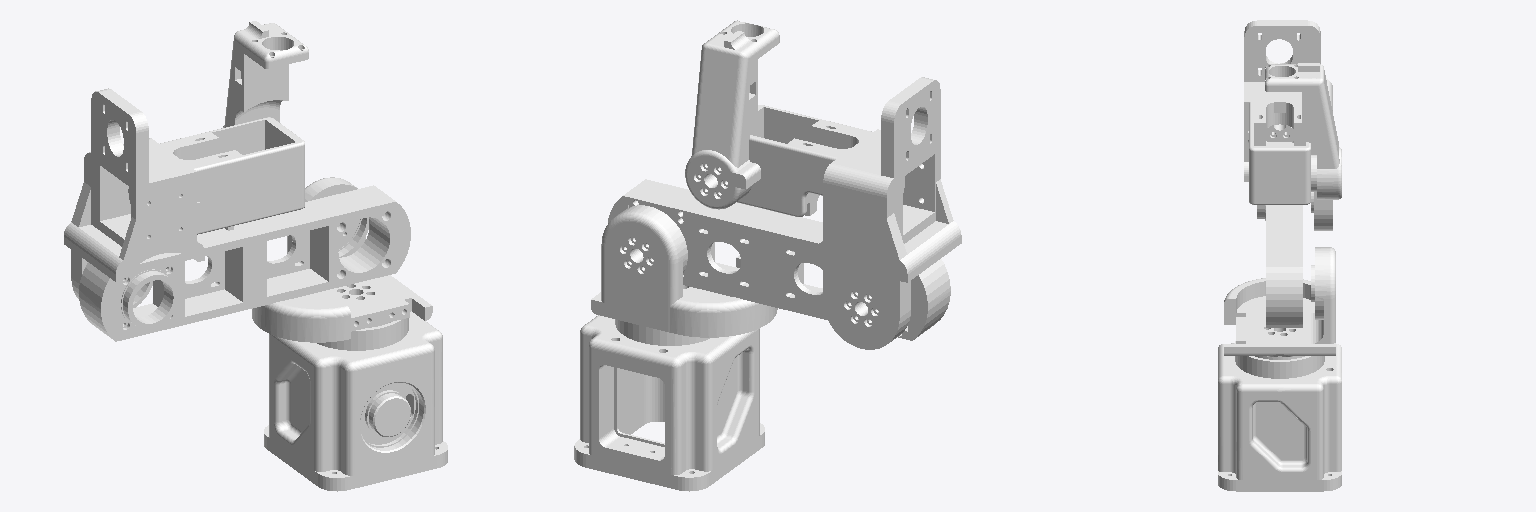
robot.urdf — my:
<?xml version="1.0"?>
<robot name="my">
  <link name="base_link">
    <visual>
      <geometry>
        <mesh filename="package://my_robot/meshes/base.STL" scale="0.01 0.01 0.01"/>
      </geometry>
    <material name="custom_color">
      <color rgba="1.0 1.0 1.0 1.0"/>  <!-- white-->
    </material>
    </visual>
  </link>

  <link name="link0">
    <visual>
      <geometry>
        <mesh filename="package://my_robot/meshes/joint1.STL" scale="0.01 0.01 0.01"/>
      </geometry>
      <origin xyz="0.0 0.0 1.6" rpy='0 0 3.1415'/>
    <material name="custom_color">
      <color rgba="1.0 1.0 1.0 1.0"/>  <!-- white-->
    </material>
    </visual>
  </link>
  <joint name="base_to_link0" type="continuous">
    <parent link="base_link"/>
    <child link="link0"/>
    <axis xyz="0 0 1"/>
    <origin xyz="0.0 0.0 0.0" rpy='0 0 0'/>
  </joint>
  <link name="link1">
    <visual>
      <geometry>
        <mesh filename="package://my_robot/meshes/joint2.STL" scale="0.01 0.01 0.01"/>
      </geometry>
      <origin xyz="0.0 0.0 0.0" rpy='0 3.1415 1.5707'/>
    <material name="custom_color">
      <color rgba="1.0 1.0 1.0 1.0"/>  <!-- white-->
    </material>
    </visual>
      <!--
    <visual>
      <geometry>
        <box size="0.02 0.02 0.02"/>
      </geometry>
      <origin rpy="1.5707 0 0" xyz="0 0 0.11"/>
    </visual>
      -->
  </link>
  <joint name="link0_to_link1" type="continuous">
    <parent link="link0"/>
    <child link="link1"/>
    <axis xyz="0 0 1"/>
    <origin xyz="0.0 0.0 1.6" rpy='-1.5707 3.1415 0'/>
  </joint>
  <link name="link2">
    <visual>
      <geometry>
        <mesh filename="package://my_robot/meshes/joint3.STL" scale="0.01 0.01 0.01"/>
      </geometry>
      <origin xyz="0.0 0.0 0.0" rpy='0 3.1415 0'/>
    <material name="custom_color">
      <color rgba="1.0 1.0 1.0 1.0"/>  <!-- white-->
    </material>
    </visual>
  <!--
    <visual>
      <geometry>
        <box size="0.6 0.1 0.1"/>
      </geometry>
      <origin rpy="0 1.5714 0" xyz="0.0 0 0.3"/>
    </visual>
    -->
  </link>
  <joint name="link1_to_link2" type="continuous">
    <parent link="link1"/>
    <child link="link2"/>
    <axis xyz="0 0 1"/>
    <origin xyz="1.7 0.0 0.0" rpy = '0 0 0'/>
  </joint>
  <link name="link3">
    <visual>
      <geometry>
        <mesh filename="package://my_robot/meshes/joint4.STL" scale="0.01 0.01 0.01"/>
      </geometry>
      <origin xyz="0.0 0.0 0.0" rpy='0 0 0'/>
    <material name="custom_color">
      <color rgba="1.0 1.0 1.0 1.0"/>  <!-- white-->
    </material>
    </visual>
  </link>
  <joint name="link2_to_link3" type="continuous">
    <parent link="link2"/>
    <child link="link3"/>
    <axis xyz="0 0 1"/>
    <origin xyz="0.0 0.7 0.0" rpy = '-1.5708  0 1.5708'/>
  </joint>
  <link name="link4">
    <visual>
      <geometry>
        <mesh filename="package://my_robot/meshes/joint5.STL" scale="0.01 0.01 0.01"/>
      </geometry>
      <origin xyz="0.0 0.0 0.0" rpy='0 0 -1.5708'/>
    <material name="custom_color">
      <color rgba="1.0 1.0 1.0 1.0"/>  <!-- white-->
    </material>
    </visual>
  </link>
  <joint name="link3_to_link4" type="continuous">
    <parent link="link3"/>
    <child link="link4"/>
    <axis xyz="0 0 1"/>
   <origin xyz="0.0 0.0 1.1" rpy = '0 1.5707 -1.5707'/>
  </joint>
  <link name="link5">
  </link>
  <joint name="link4_to_link5" type="continuous">
    <parent link="link4"/>
    <child link="link5"/>
    <axis xyz="0 0 1"/>
    <origin xyz="0.0 0.9 0.0" rpy = '-1.5707 0 0'/>
  </joint>
</robot>

--- What the picture shows (computed from the rendered views, not written in the file) ---
Views: 3 orthographic renders of the robot side by side, from view 1: azimuth 30°, elevation 25°; view 2: azimuth 150°, elevation 25°; view 3: azimuth 270°, elevation 25°.
Robot: my — 7 links, 6 joints (6 continuous); root link base_link; default pose: every joint at zero.
Links seen in each view (by area): view 1: base_link, link1, link2, link3, link0, link4; view 2: base_link, link2, link1, link0, link4, link3; view 3: base_link, link0, link3, link2, link4, link1.
Boxes of the visible links, x1,y1,x2,y2 form: base_link: [264, 311, 447, 491]; link1: [79, 185, 410, 341]; link2: [64, 88, 204, 307]; link3: [128, 117, 304, 234]; link0: [252, 177, 432, 342]; link4: [223, 21, 308, 127]; base_link: [574, 315, 764, 491]; link2: [815, 77, 961, 349]; link1: [608, 179, 950, 340]; link0: [591, 205, 777, 337]; link4: [685, 20, 779, 209]; link3: [737, 105, 904, 216]; base_link: [1218, 341, 1341, 491]; link0: [1224, 247, 1335, 359]; link3: [1249, 102, 1310, 204]; link2: [1244, 20, 1332, 230]; link4: [1265, 63, 1341, 199]; link1: [1257, 205, 1302, 327].
Size in the robot's own frame: 2.57 by 1 by 3.25 metres.
Meshes: 6 distinct files referenced, 6 mesh visuals loaded (6 binary STL).